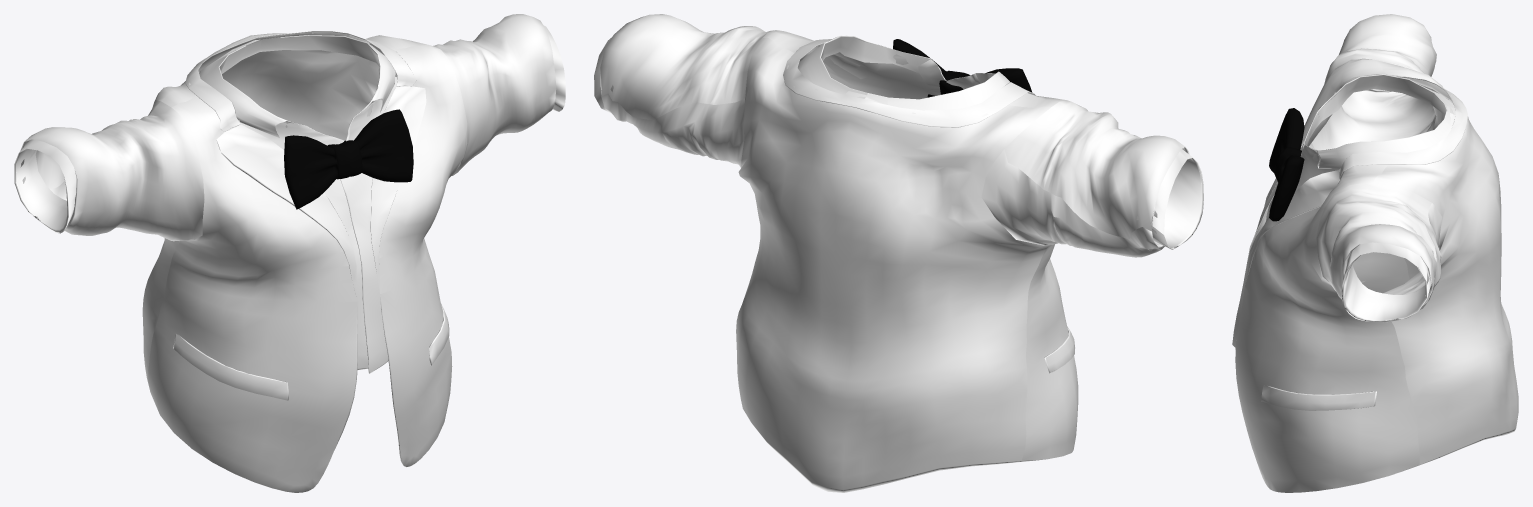
The model's file is Tux-Snow.glb.
3 views of the same model, side by side, from view 1: azimuth 30°, elevation 25°; view 2: azimuth 150°, elevation 25°; view 3: azimuth 270°, elevation 25° (orthographic). The views are drawn at different scales.
Parts seen in each view (by area): view 1: Tux-Snow; view 2: Tux-Snow; view 3: Tux-Snow.
Boxes of the visible parts, box(x1,y1,x2,y2) form: Tux-Snow: box(14, 14, 565, 492); Tux-Snow: box(594, 14, 1203, 492); Tux-Snow: box(1232, 14, 1518, 492).
Size of the model in its own units: 0.6714 by 0.4645 by 0.3407.
2 materials, 1 textured.
